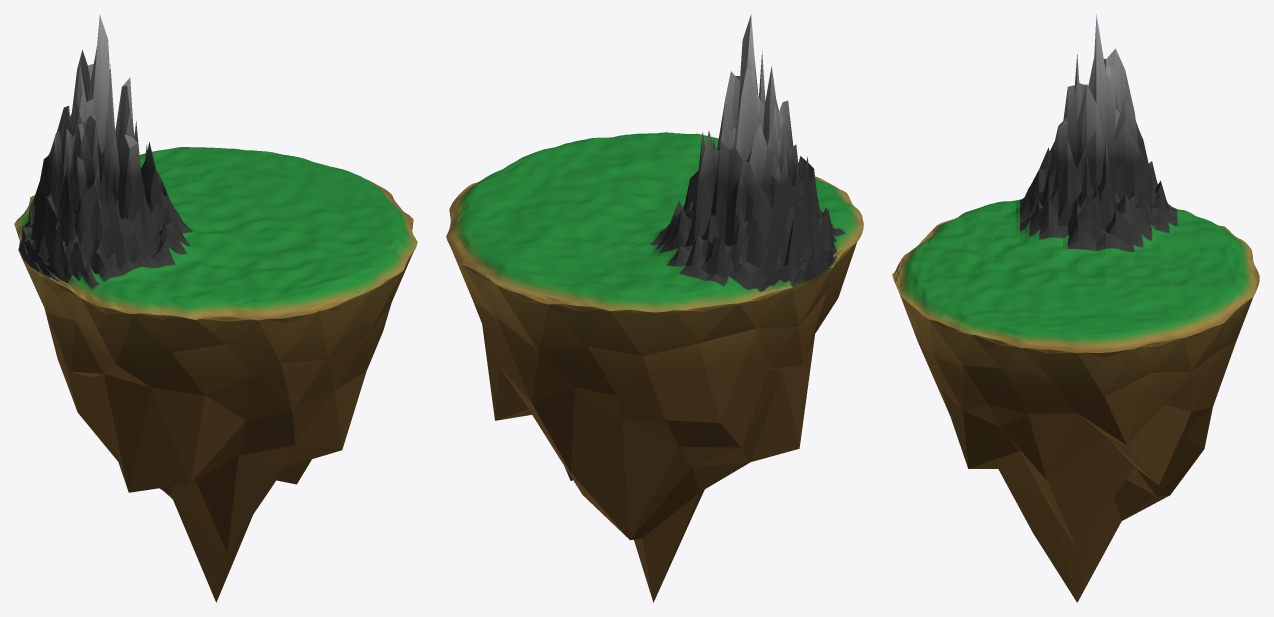
The model's file is Island.fbx.
3 views of the same model, side by side, from view 1: azimuth 30°, elevation 25°; view 2: azimuth 150°, elevation 25°; view 3: azimuth 270°, elevation 25° (orthographic). The views are drawn at different scales.
Visible parts, largest first — view 1: Icosphere.001; view 2: Icosphere.001; view 3: Icosphere.001.
Part boxes in pixels (x1,y1,x2,y2): Icosphere.001: (14, 14, 417, 602); Icosphere.001: (446, 14, 863, 602); Icosphere.001: (892, 14, 1259, 602).
Size of the model in its own units: 1488 by 2453 by 1506.
2 materials, 2 textured.
